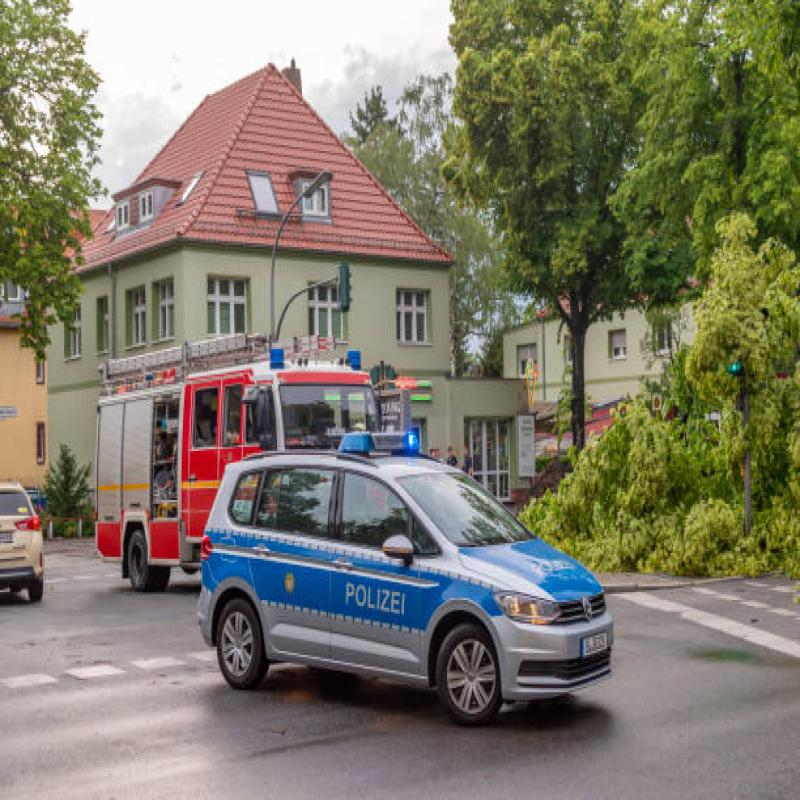AmbulanceSiren: (333, 416, 433, 465)
